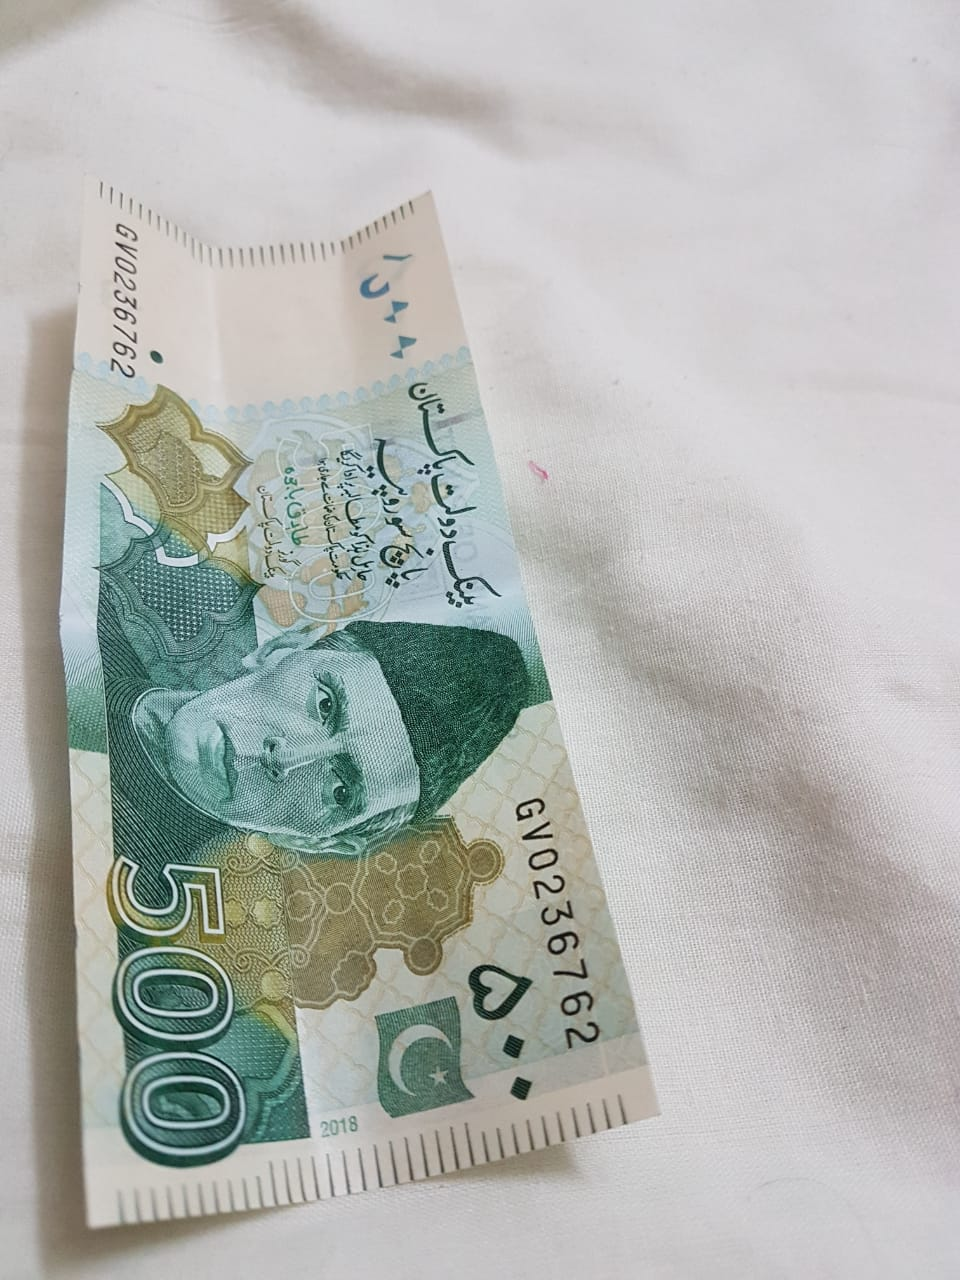500 rupee: (50, 125, 671, 1228)
